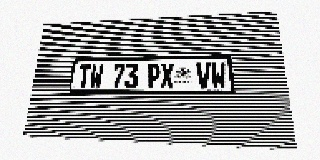3: (124, 64, 138, 88)
7: (111, 64, 125, 88)
P: (146, 63, 160, 88)
T: (77, 65, 92, 88)
V: (196, 62, 211, 88)
W: (211, 62, 227, 89), (89, 64, 104, 88)
X: (160, 63, 174, 88)
